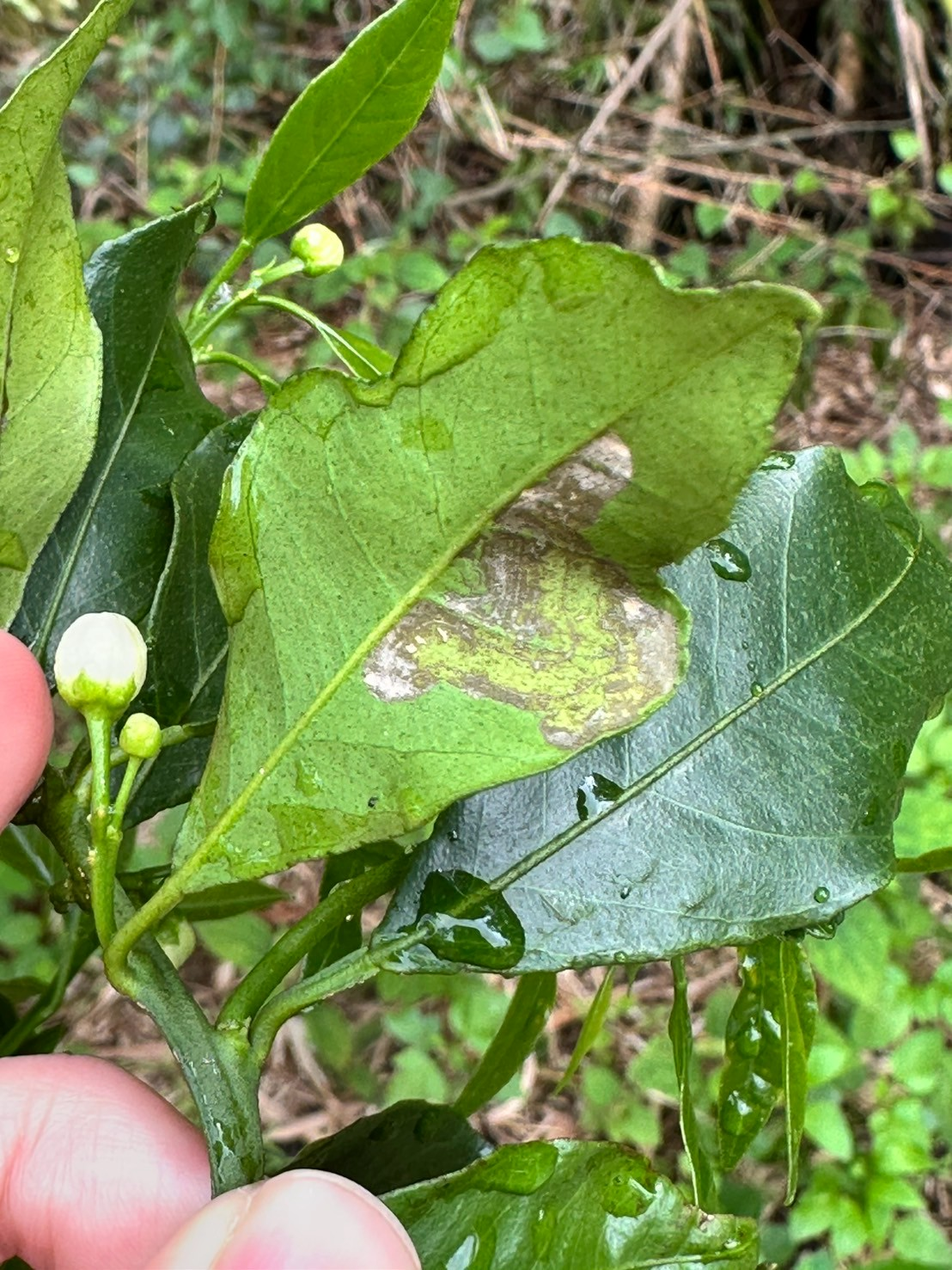Citrus_Leaf_Miner: (357, 434, 679, 760)
